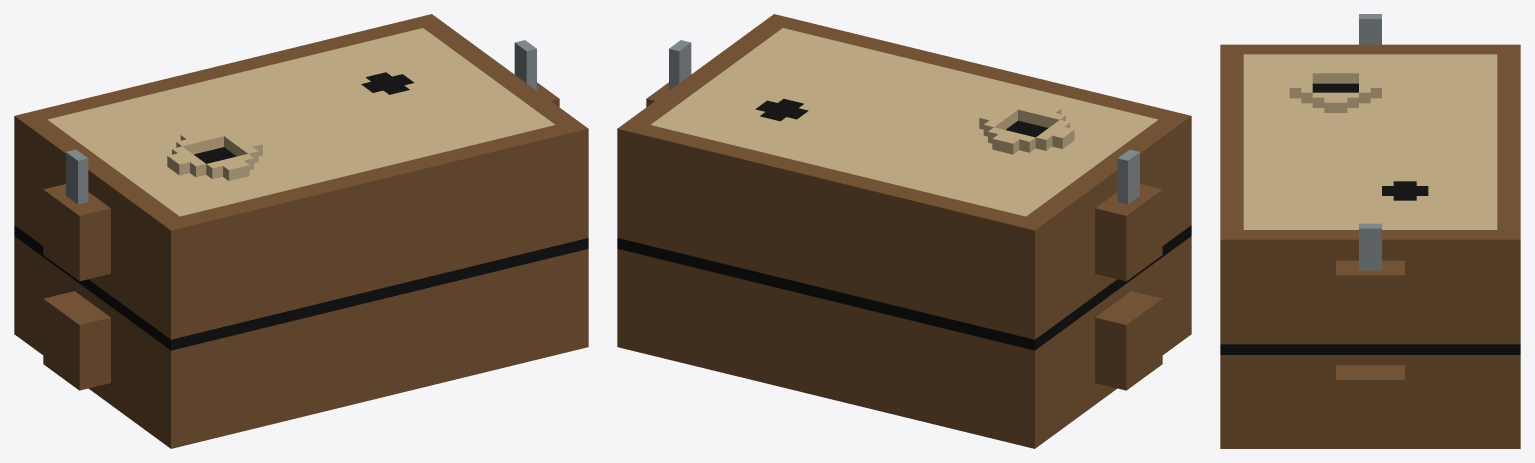
File: casting_mold.glb
The picture shows the model from 3 angles, left to right: view 1: azimuth 30°, elevation 25°; view 2: azimuth 150°, elevation 25°; view 3: azimuth 270°, elevation 25°; orthographic projection. The views are drawn at different scales.
Visible parts, largest first — view 1: casting_mold:compound; view 2: casting_mold:compound; view 3: casting_mold:compound.
Part boxes in pixels (x1,y1,x2,y2): casting_mold:compound: [14, 14, 588, 448]; casting_mold:compound: [617, 14, 1191, 448]; casting_mold:compound: [1220, 14, 1520, 448].
Size of the model in its own units: 0.46 by 0.22 by 0.26.
